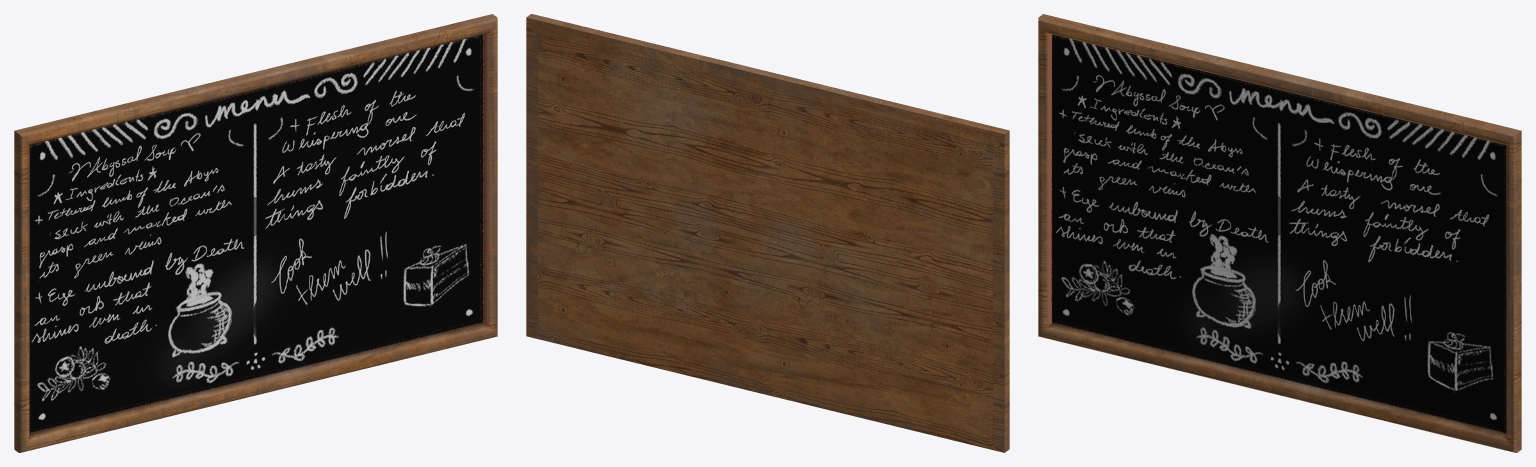
File: BlackBoardRecipe.glb
3 views of the same model, side by side, from view 1: azimuth 30°, elevation 25°; view 2: azimuth 150°, elevation 25°; view 3: azimuth 330°, elevation 25° (orthographic).
Parts seen in each view (by area): view 1: Cube; view 2: Cube; view 3: Cube.
Part boxes in pixels (<box>): Cube: <box>14,14,497,452</box>; Cube: <box>526,14,1009,452</box>; Cube: <box>1038,14,1521,452</box>.
Size of the model in its own units: 1.25 by 0.7942 by 0.0316.
1 material, 1 textured.
